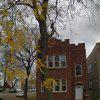Tree: (4, 0, 70, 69)
